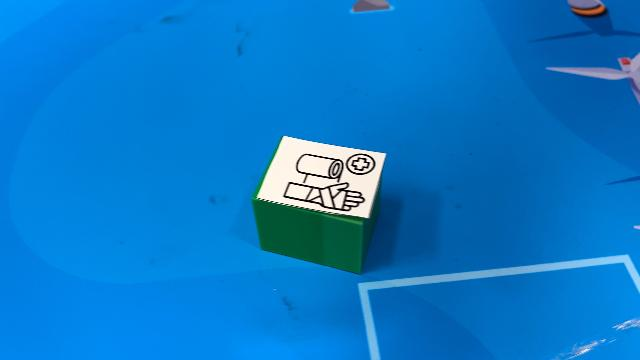bandage: (250, 134, 388, 274)
